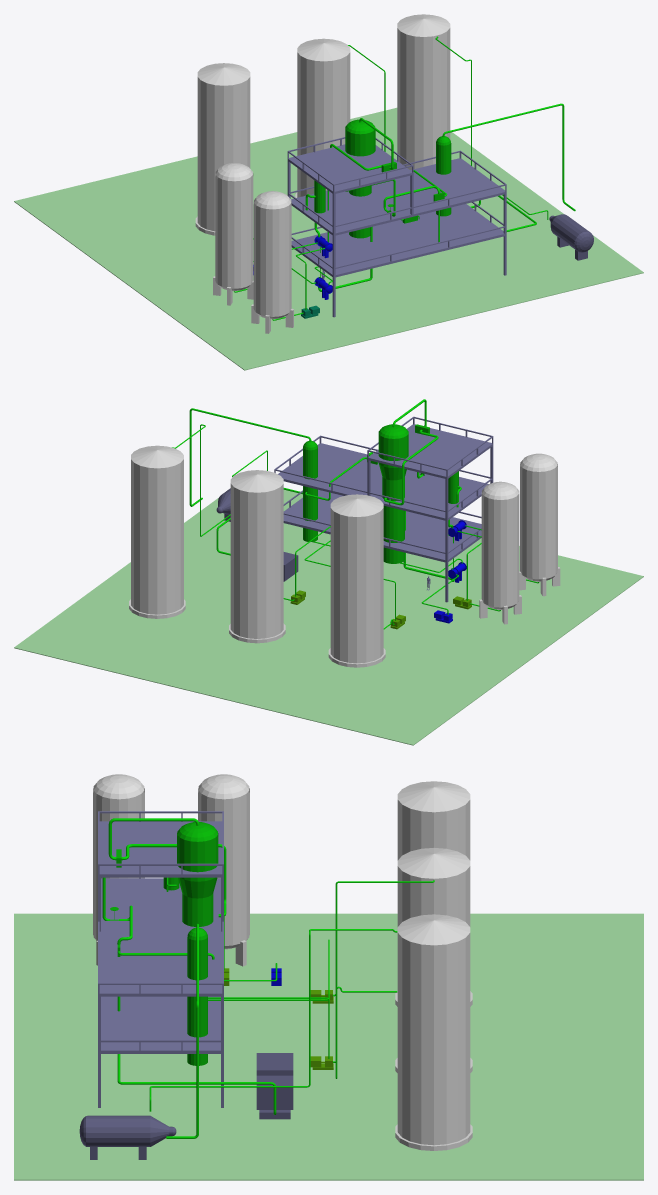
3 renders of one model, top to bottom at view 1: azimuth 30°, elevation 25°; view 2: azimuth 150°, elevation 25°; view 3: azimuth 270°, elevation 25°, orthographic. The views are drawn at different scales.
Visible parts, largest first — view 1: Equipment, Penetrable, Tower, Line; view 2: Equipment, Penetrable, Tower, Line; view 3: Equipment, Penetrable, Tower, Line.
Part boxes in pixels (x1,y1,x2,y2): Equipment: (14,14,643,370); Penetrable: (287,137,506,317); Tower: (213,163,325,333); Line: (234,36,575,320); Equipment: (14,424,643,745); Penetrable: (274,416,493,602); Tower: (448,453,560,624); Line: (172,399,539,629); Equipment: (14,781,643,1180); Penetrable: (98,811,223,1107); Tower: (93,774,249,966); Line: (102,818,434,1138).
Size of the model in its own units: 60 by 22.92 by 60.
